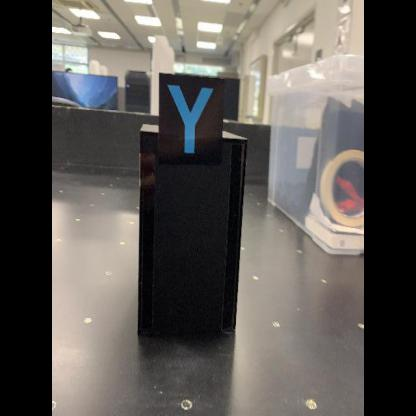y: (158, 72, 225, 167)
